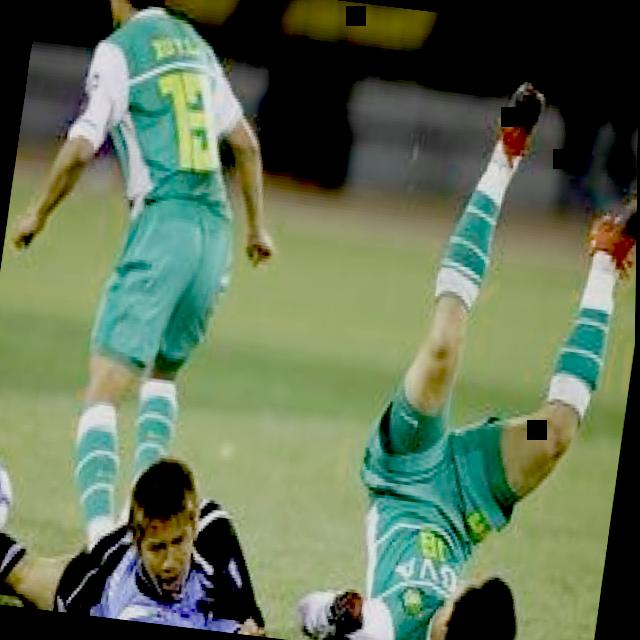Fall-Detected: (278, 28, 640, 640)
